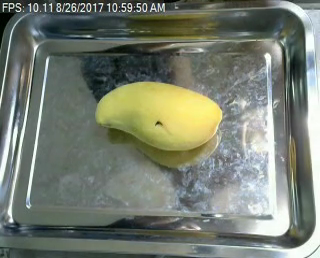Mango: (92, 80, 222, 149)
